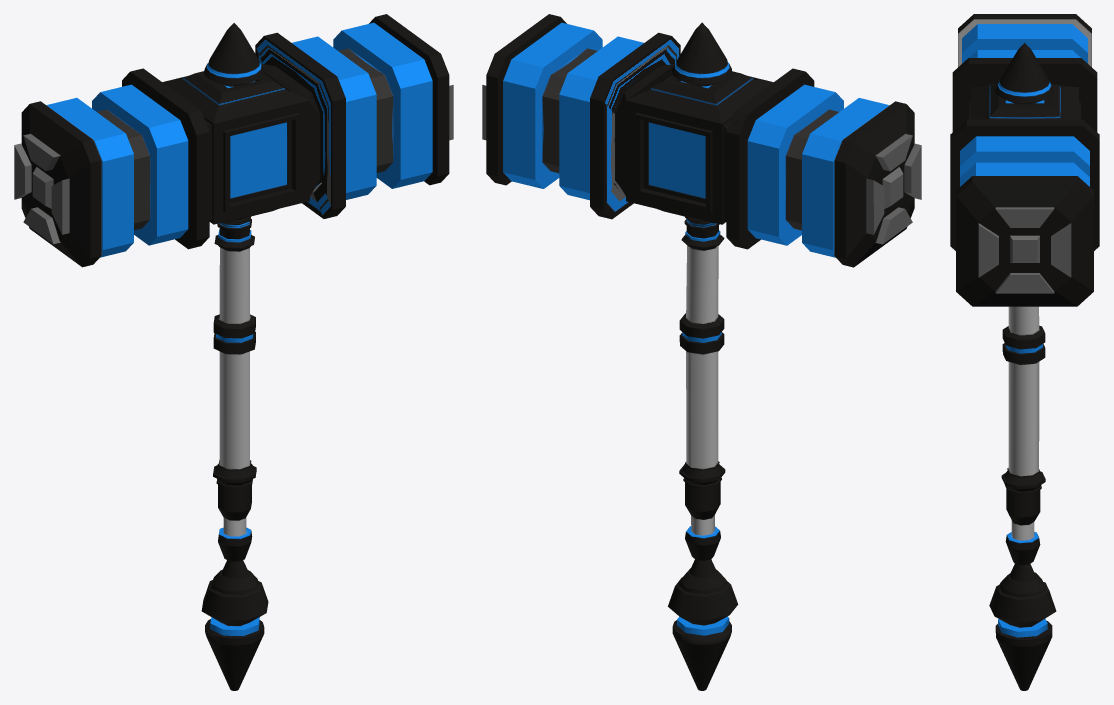
The model's file is LowPoly.fbx.
The picture shows the model from 3 angles, left to right: view 1: azimuth 30°, elevation 25°; view 2: azimuth 150°, elevation 25°; view 3: azimuth 270°, elevation 25°; orthographic projection. The views are drawn at different scales.
Parts seen in each view (by area): view 1: Hammer; view 2: Hammer; view 3: Hammer.
Part boxes in pixels (left/top/right/bottom): Hammer: left=14, top=14, right=453, bottom=690; Hammer: left=482, top=14, right=921, bottom=690; Hammer: left=950, top=14, right=1099, bottom=690.
Size of the model in its own units: 77.85 by 127 by 26.52.
1 material, 1 textured.
